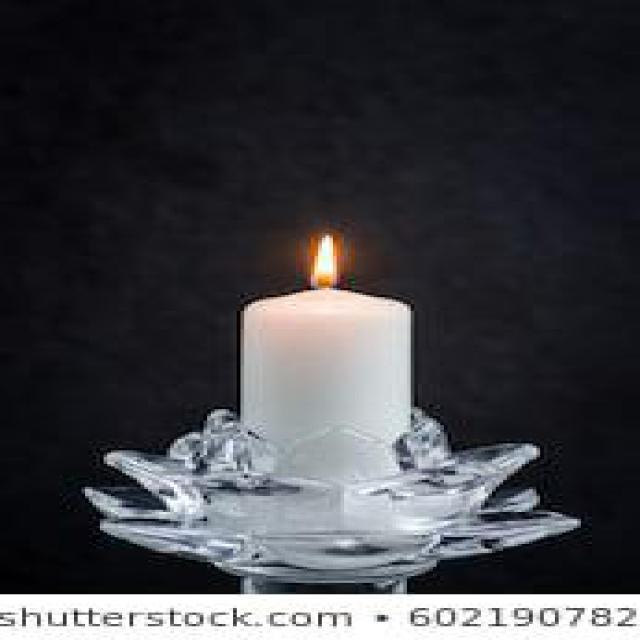Fire: (308, 236, 338, 290)
